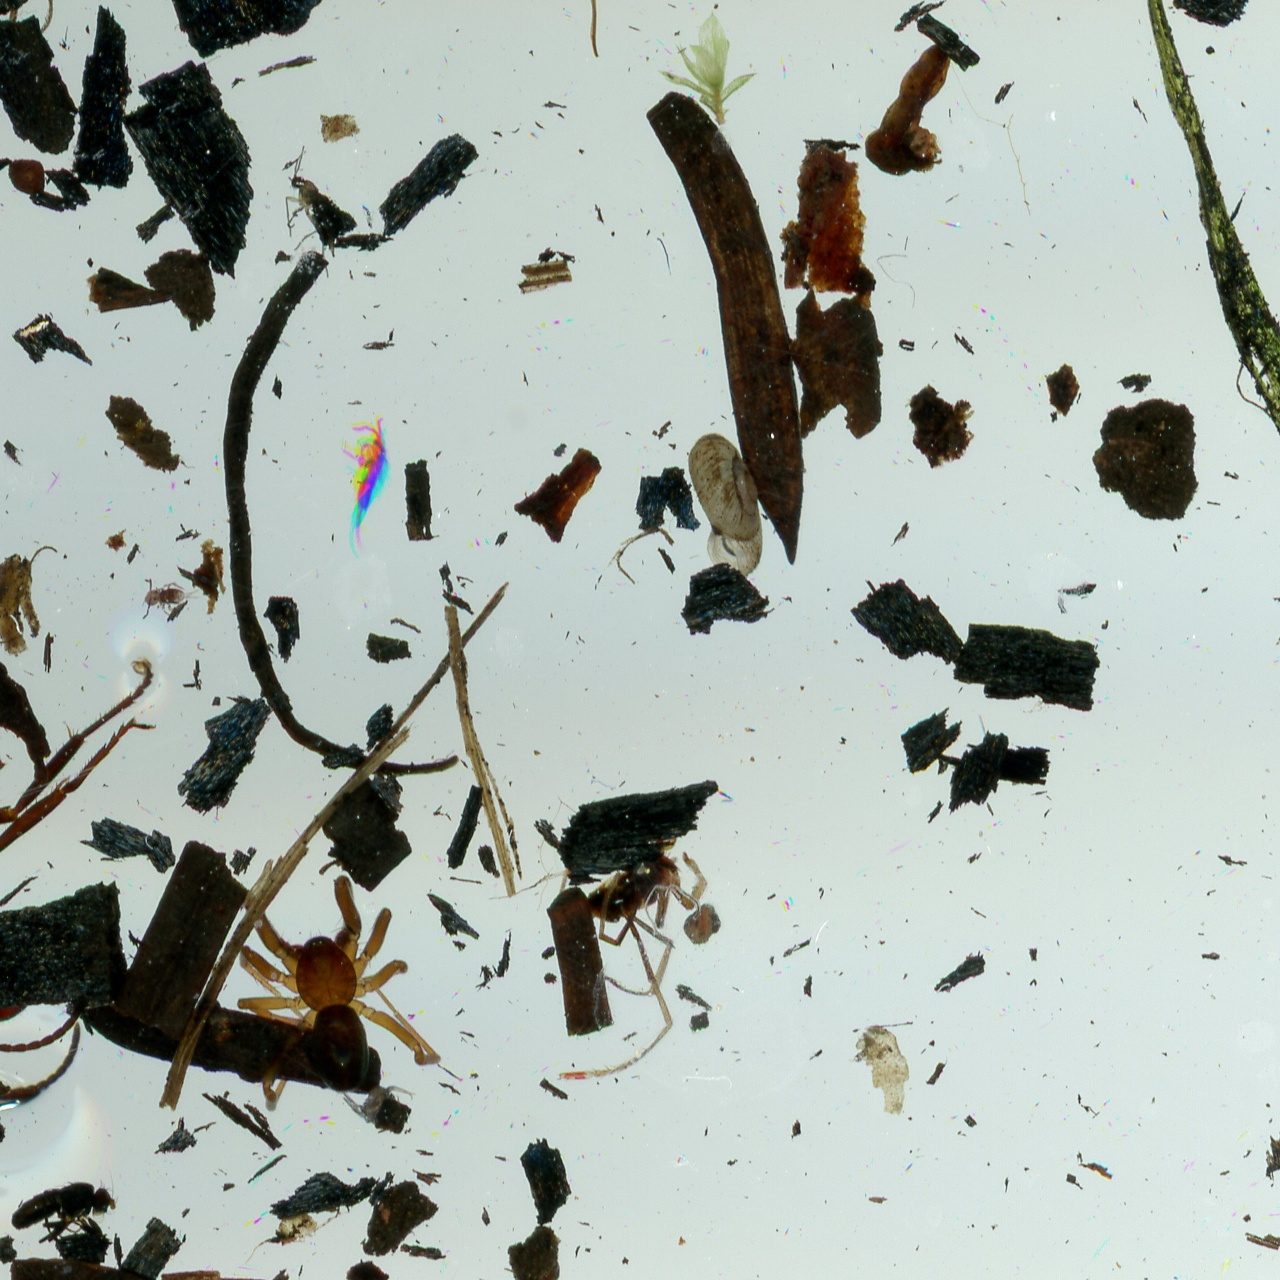arthropod: (0, 358, 159, 1108), (490, 832, 710, 1086), (240, 870, 448, 1112), (0, 1157, 132, 1256), (684, 431, 767, 580), (278, 144, 345, 284), (338, 416, 400, 561), (339, 1083, 421, 1131), (139, 572, 202, 623)
